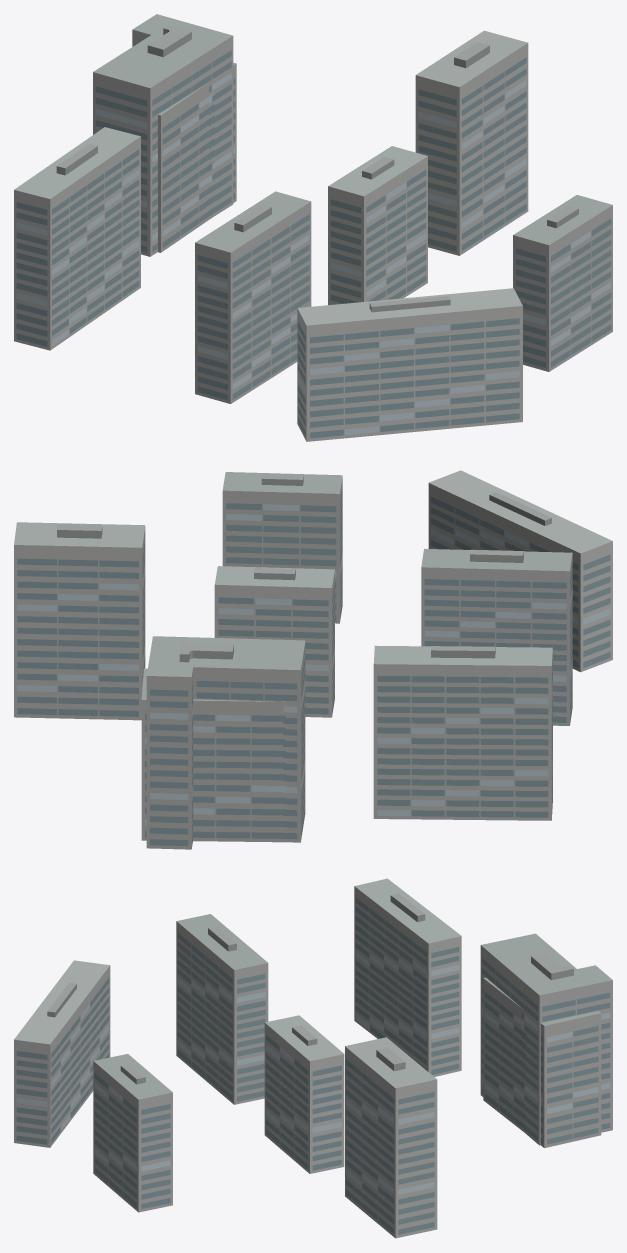
The model's file is apt-a10025927.glb.
The picture shows the model from 3 angles, top to bottom: view 1: azimuth 30°, elevation 25°; view 2: azimuth 150°, elevation 25°; view 3: azimuth 270°, elevation 25°; orthographic projection. The views are drawn at different scales.
Visible parts, largest first — view 1: apt-a10025927; view 2: apt-a10025927; view 3: apt-a10025927.
Part boxes in pixels (x1=…): apt-a10025927: x1=14, y1=14, x2=612, y2=441; apt-a10025927: x1=14, y1=470, x2=612, y2=849; apt-a10025927: x1=14, y1=878, x2=612, y2=1238.
Bounding box in the file's own units: 147 × 47.81 × 165.
